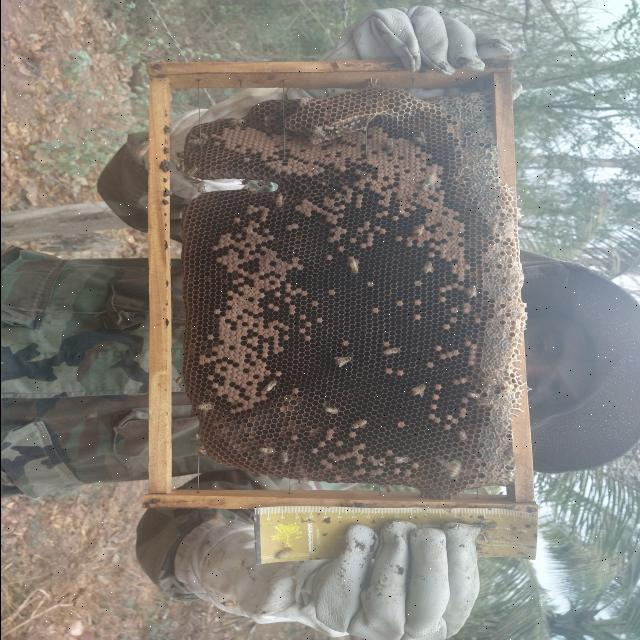cria: (210, 124, 471, 281), (196, 202, 322, 414), (328, 280, 479, 431), (287, 428, 420, 480)
marco: (174, 84, 500, 495)
